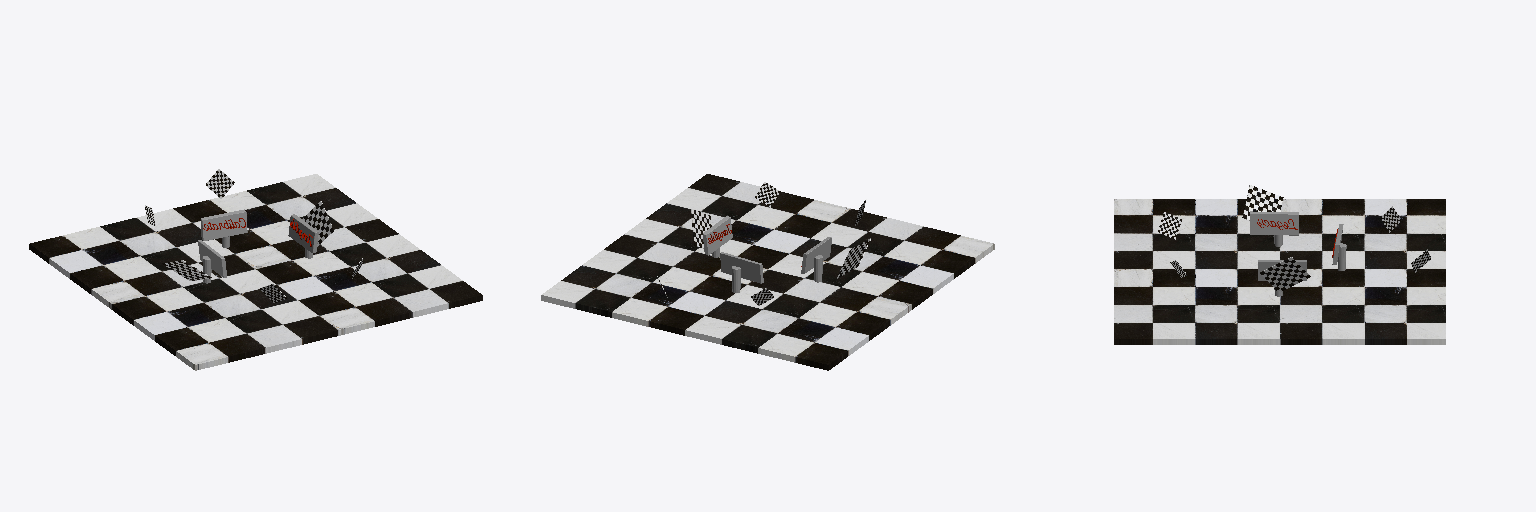
3 views of the same model, side by side, from view 1: azimuth 30°, elevation 25°; view 2: azimuth 150°, elevation 25°; view 3: azimuth 270°, elevation 25° (orthographic).
Visible parts, largest first — view 1: Cube.006_Cube, Cylinder.002, Cylinder.001, Cylinder, Cube; view 2: Cube.006_Cube, Cylinder.002, Cylinder.001, Cylinder; view 3: Cube.006_Cube, Cylinder.001, Cube, Cube.001_Cube.
Part boxes in pixels (bbox=[...]): Cube.006_Cube: bbox=[29, 174, 482, 370]; Cylinder.002: bbox=[201, 209, 247, 247]; Cylinder.001: bbox=[198, 240, 226, 283]; Cylinder: bbox=[288, 214, 318, 258]; Cube: bbox=[302, 201, 333, 246]; Cube.006_Cube: bbox=[541, 174, 994, 370]; Cylinder.002: bbox=[720, 252, 763, 292]; Cylinder.001: bbox=[801, 237, 831, 282]; Cylinder: bbox=[703, 216, 732, 257]; Cube.006_Cube: bbox=[1114, 199, 1445, 344]; Cylinder.001: bbox=[1250, 211, 1298, 246]; Cube: bbox=[1260, 257, 1310, 291]; Cube.001_Cube: bbox=[1242, 185, 1283, 220].
Size of the model in its own units: 28.76 by 6.49 by 28.76.
Materials: 3 (1 with a texture image).